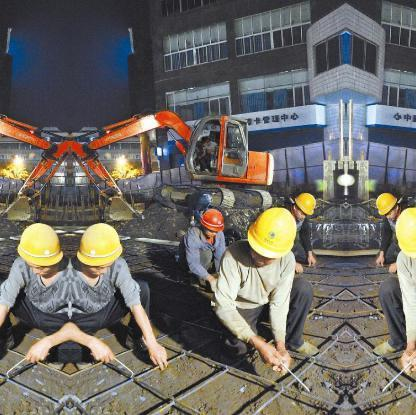helmet: (239, 205, 296, 259), (74, 223, 133, 273), (194, 204, 226, 239), (287, 186, 318, 217)
